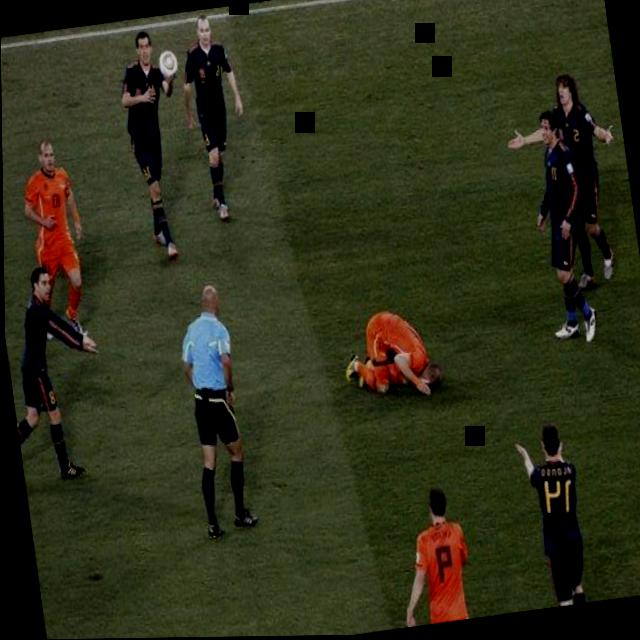Fall-Detected: (331, 285, 450, 414)
